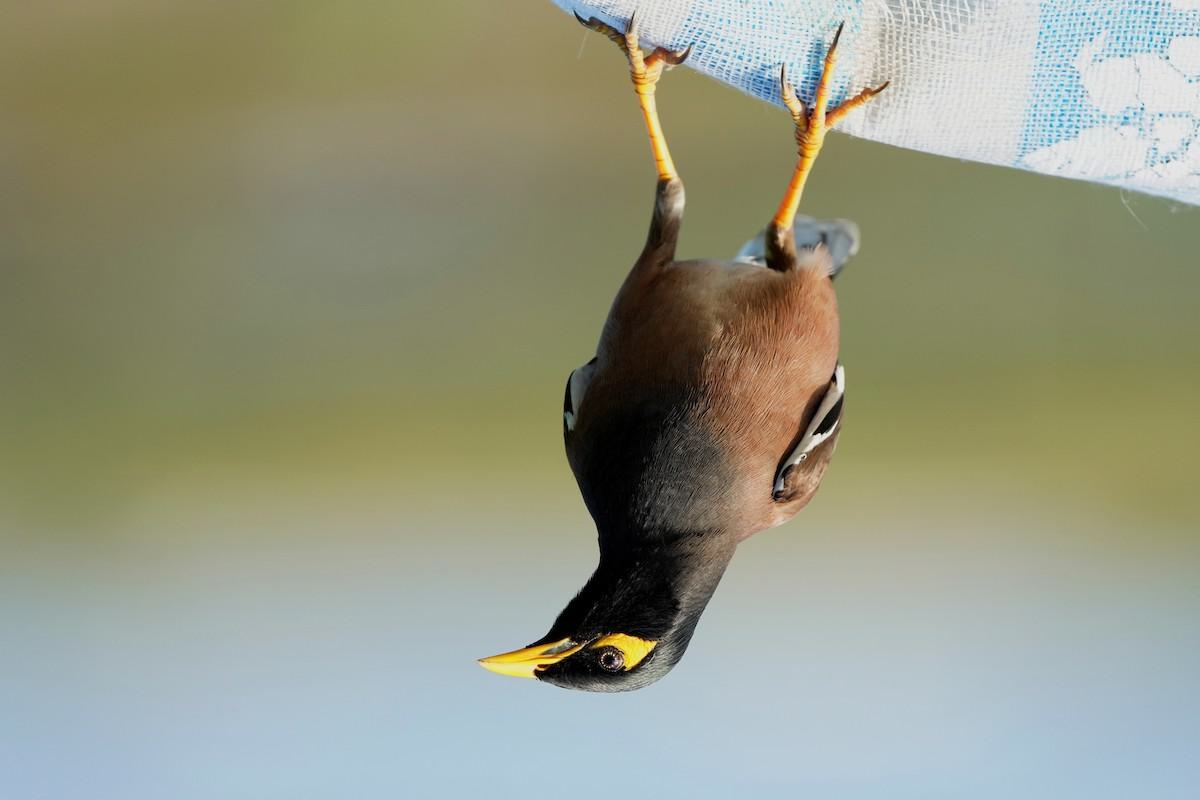myna: (455, 24, 954, 711)
